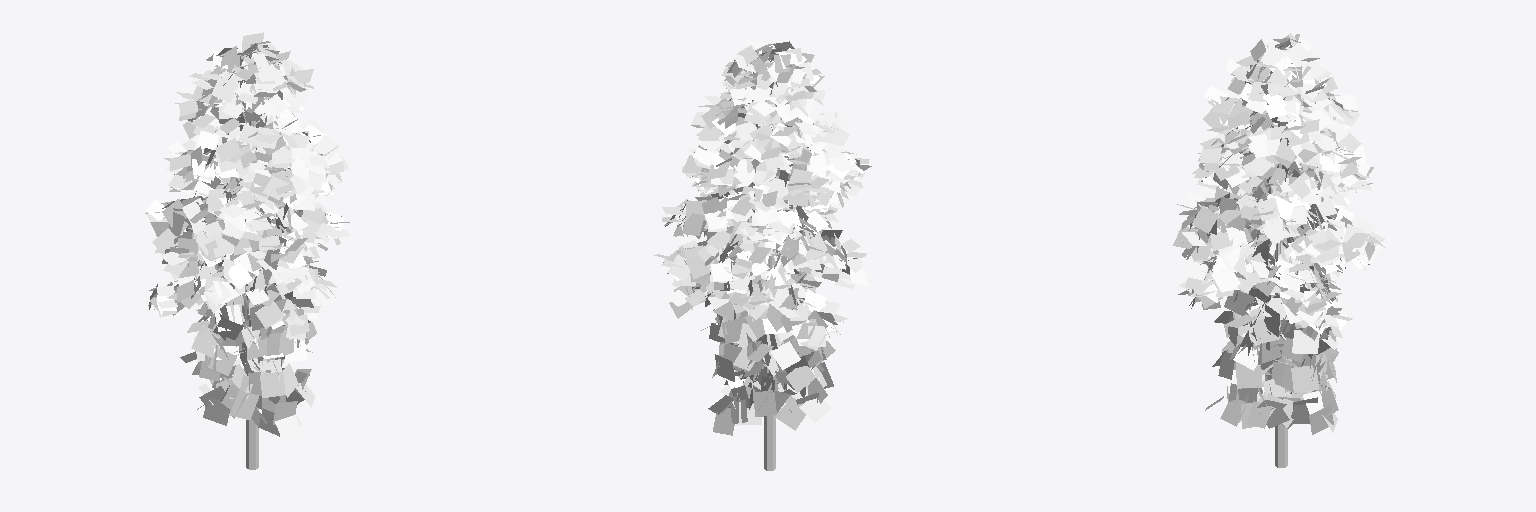
The model's file is Lodgepole_Pine_Model_0.obj.
3 views of the same model, side by side, from view 1: azimuth 30°, elevation 25°; view 2: azimuth 150°, elevation 25°; view 3: azimuth 270°, elevation 25° (orthographic).
Parts seen in each view (by area): view 1: Foliage__leafcard, Bark; view 2: Foliage__leafcard, Bark; view 3: Foliage__leafcard, Bark.
Part boxes in pixels (x1,y1,x2,y2): Foliage__leafcard: (145,32,350,439); Bark: (217,120,277,469); Foliage__leafcard: (654,40,871,435); Bark: (740,70,800,470); Foliage__leafcard: (1173,33,1384,434); Bark: (1262,72,1306,467).
Size of the model in its own units: 18.91 by 40 by 18.39.